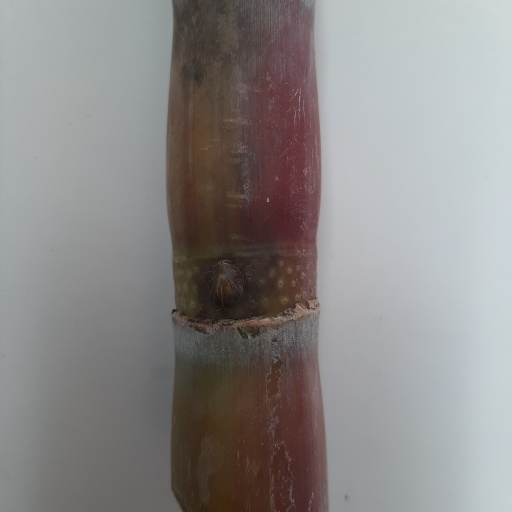Bud: (207, 261, 247, 312)
